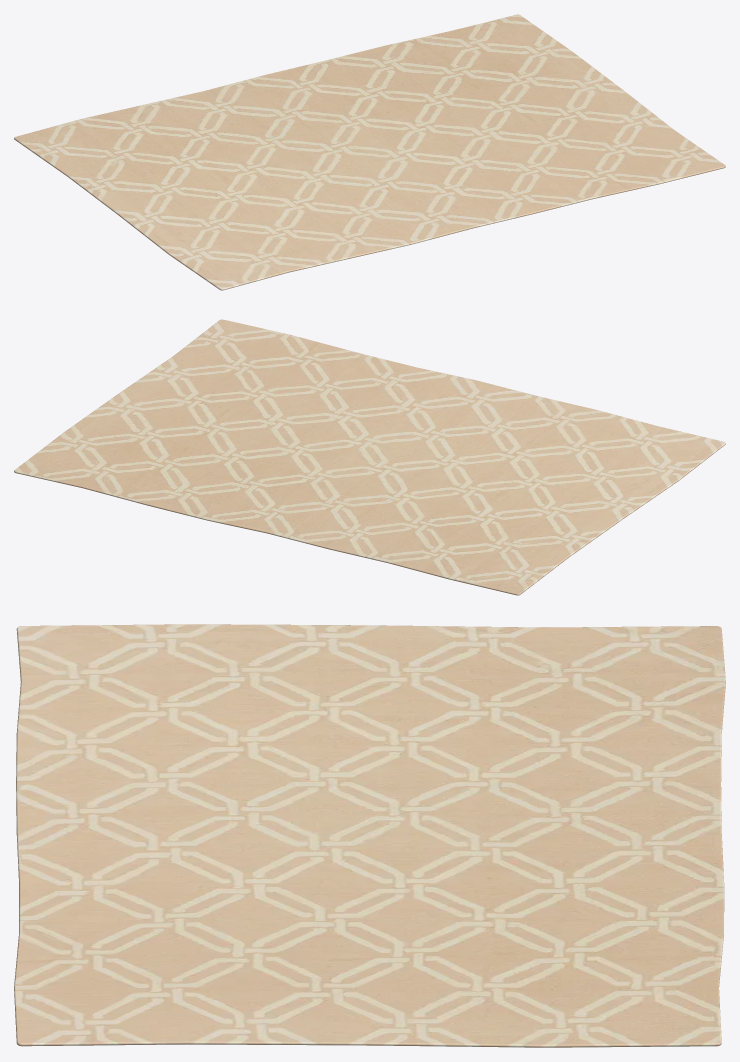
Rendered from abo-B071LQHVJZ.glb.
3 views of the same model, one above another, from view 1: azimuth 30°, elevation 25°; view 2: azimuth 150°, elevation 25°; view 3: azimuth 270°, elevation 25° (orthographic). The views are drawn at different scales.
Size of the model in its own units: 2.14 by 0.013 by 1.52.
Materials: 1 (1 with a texture image).
